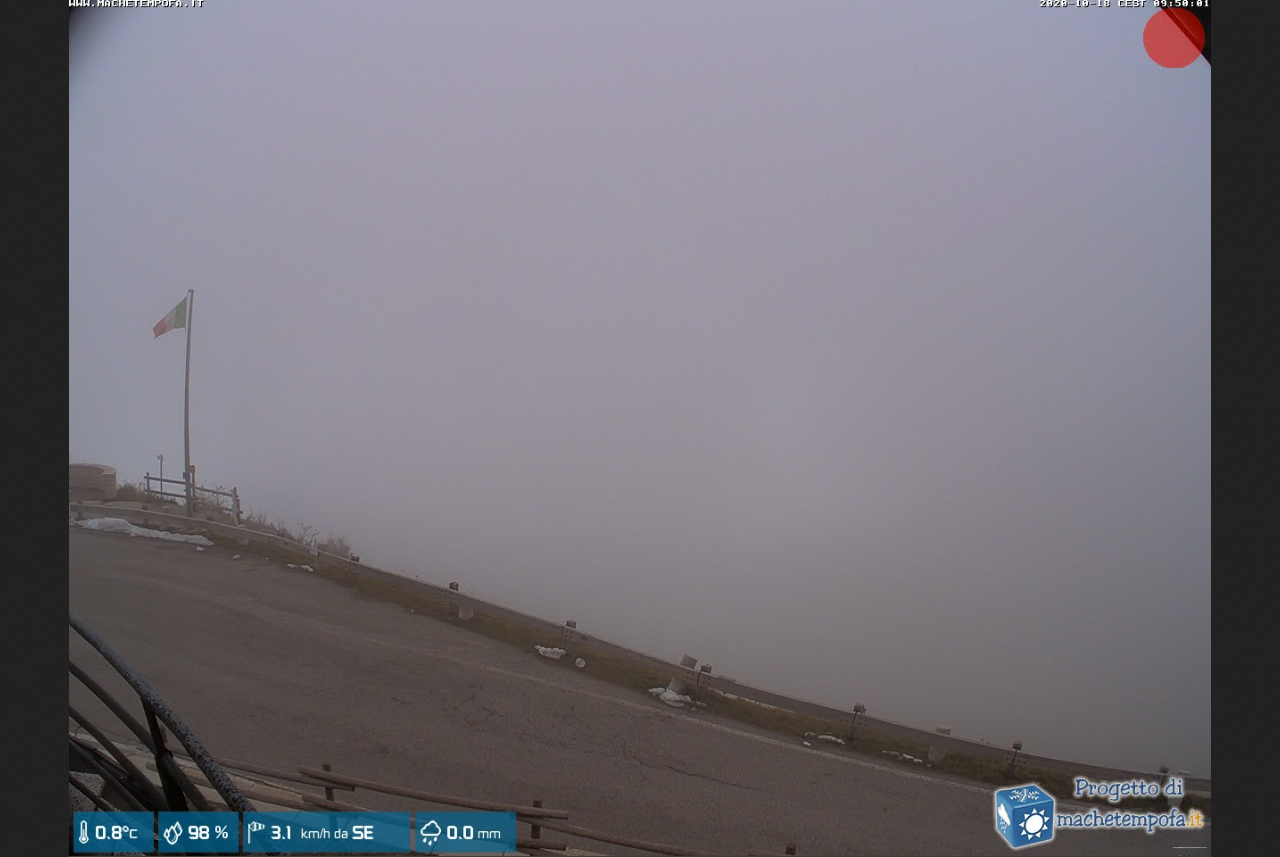maybe: (138, 277, 211, 347)
